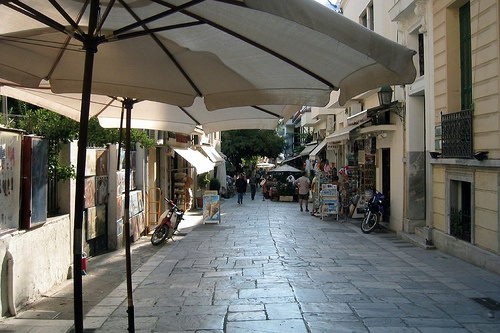non-vehicle: (151, 197, 187, 246), (360, 190, 383, 233)
